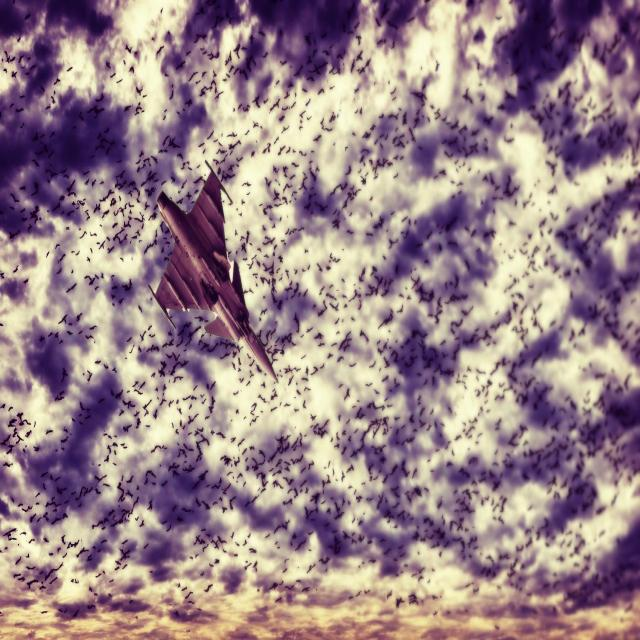airplane: (148, 161, 278, 385)
